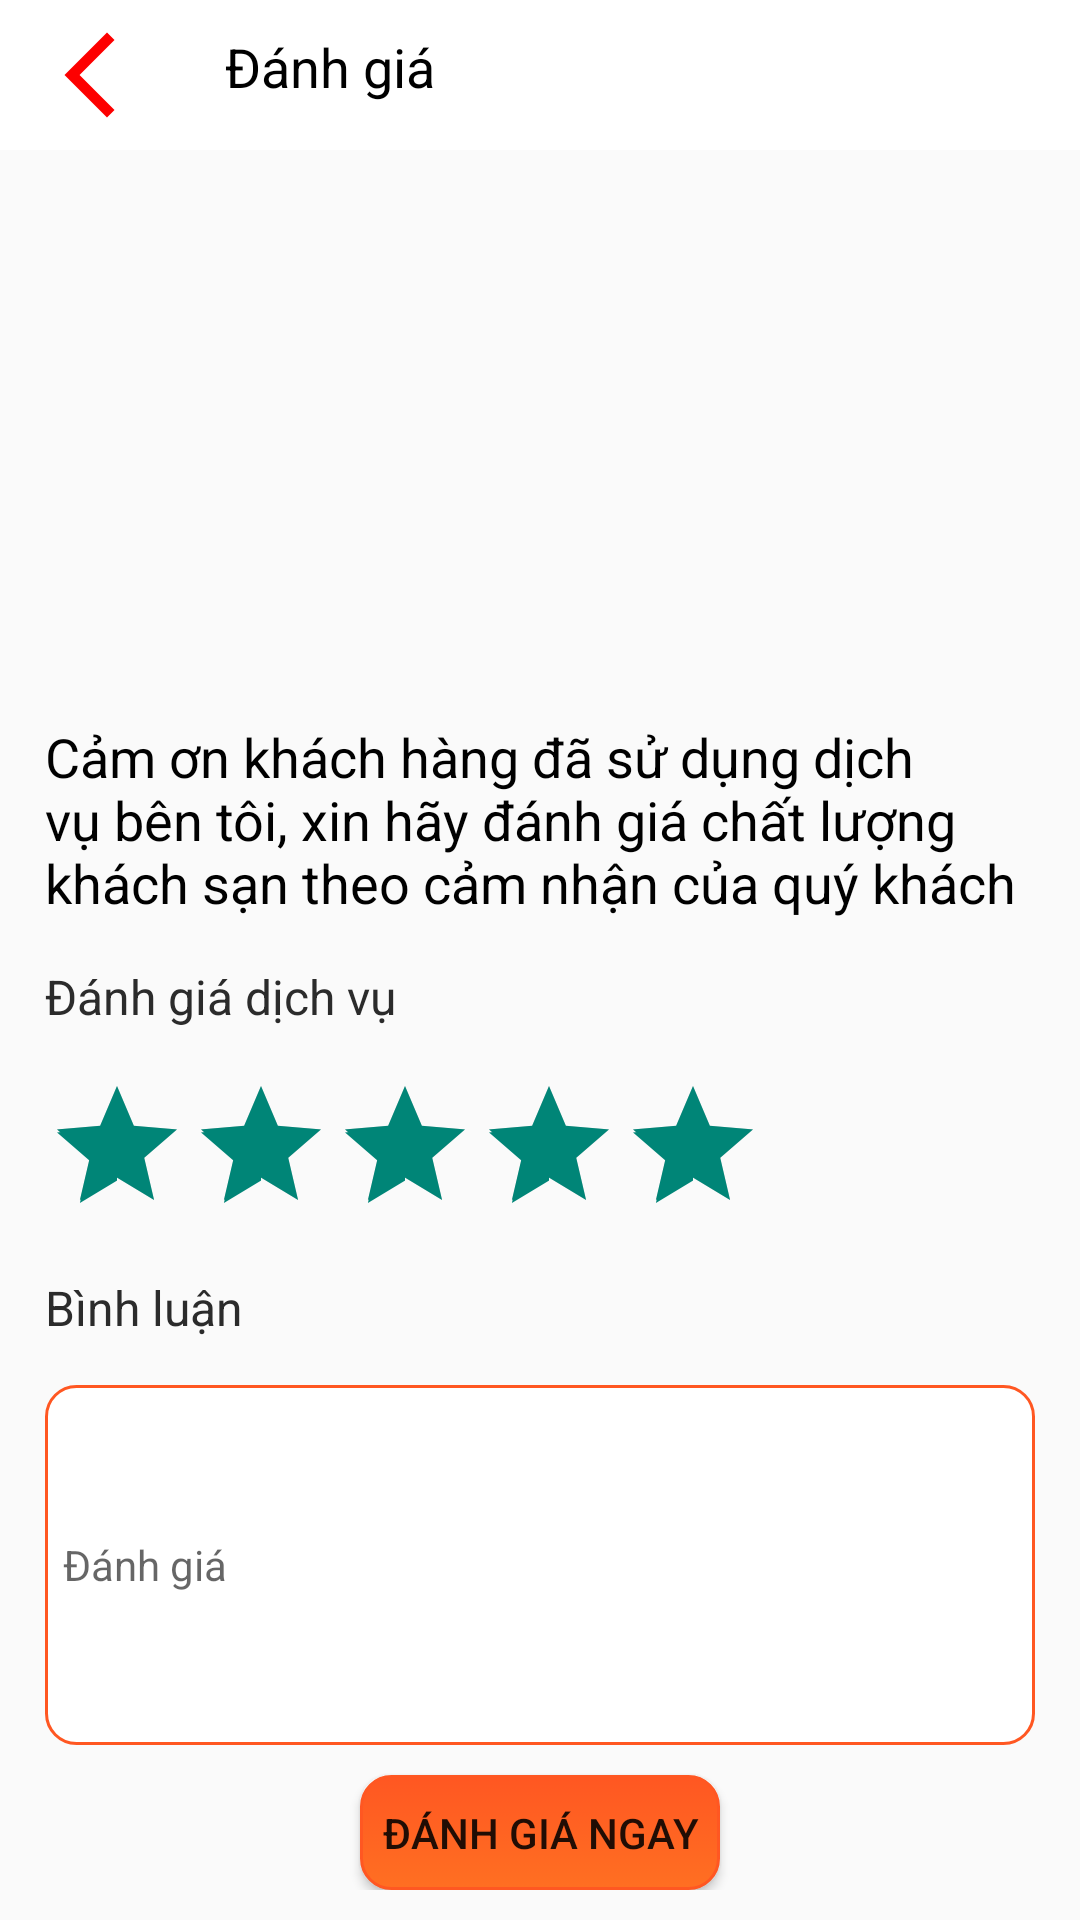

Named icons in this screenshot (1080×1920) and their centers, point (x, y):
arrow back: point (89, 75)
